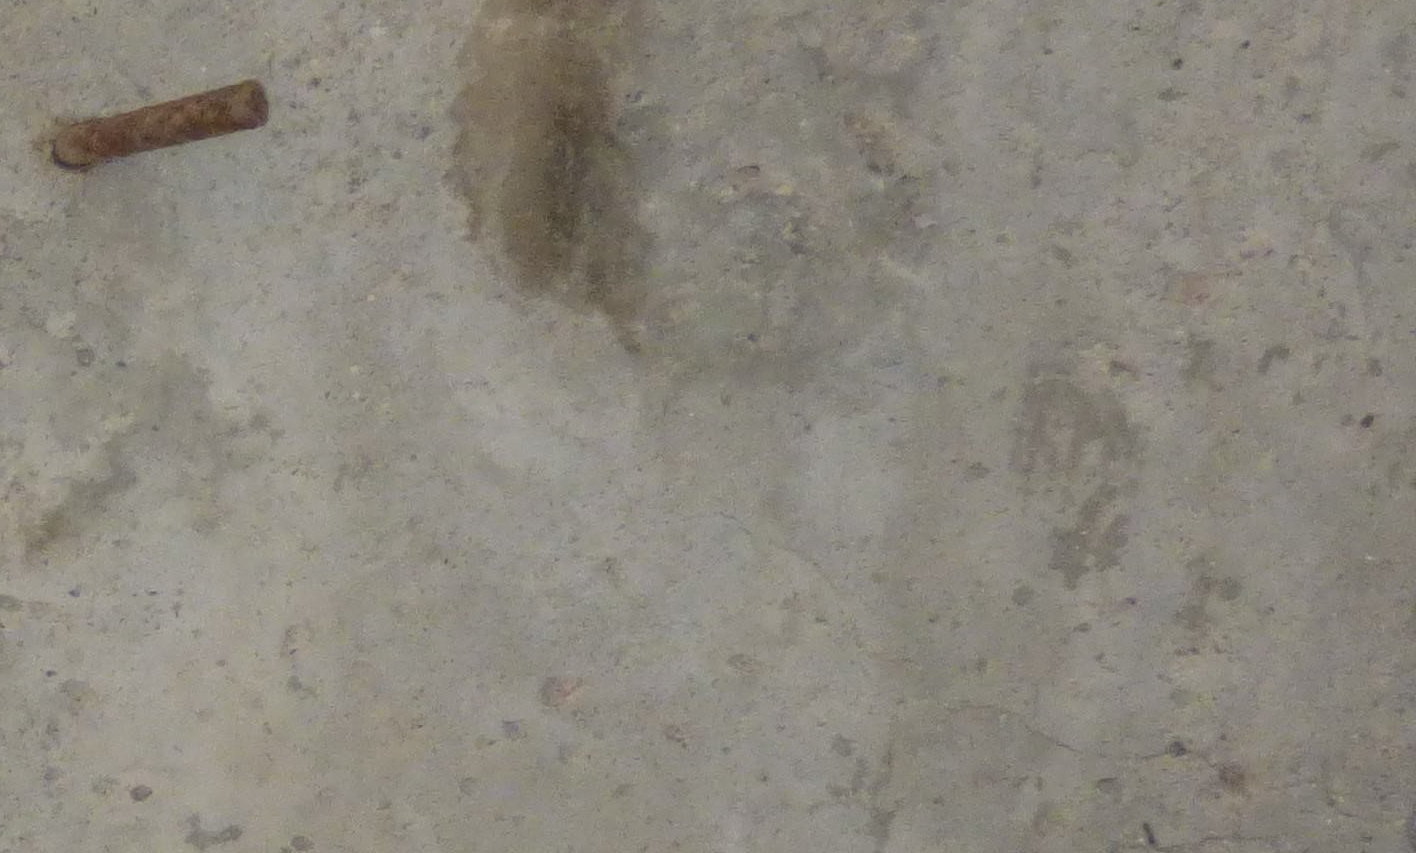Exposed reinforcement: (54, 78, 270, 168)
